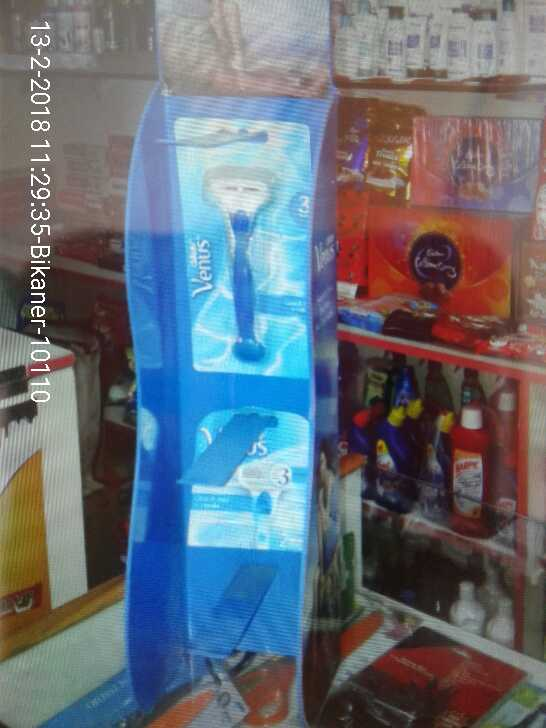venus: (170, 114, 312, 376), (178, 404, 317, 555)
